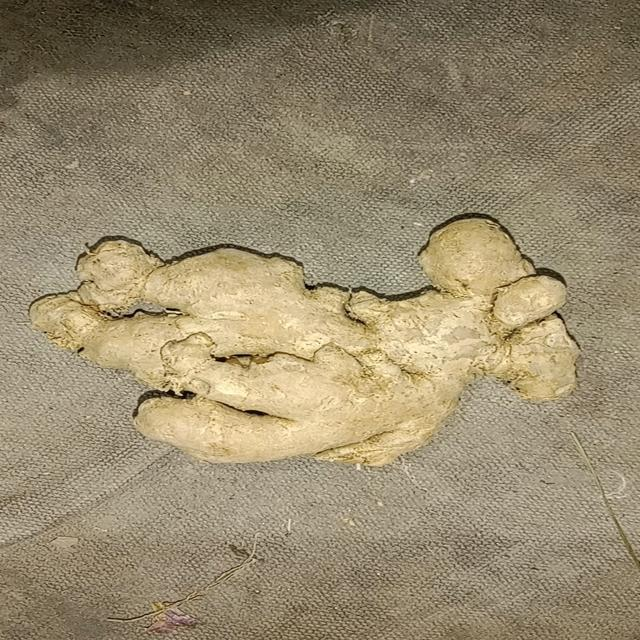ginger: (33, 217, 600, 460)
